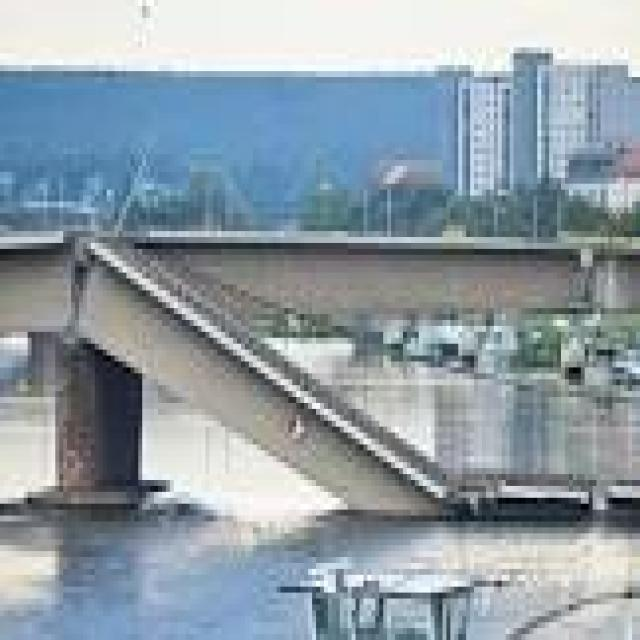bridge collapse: (12, 118, 640, 640)
